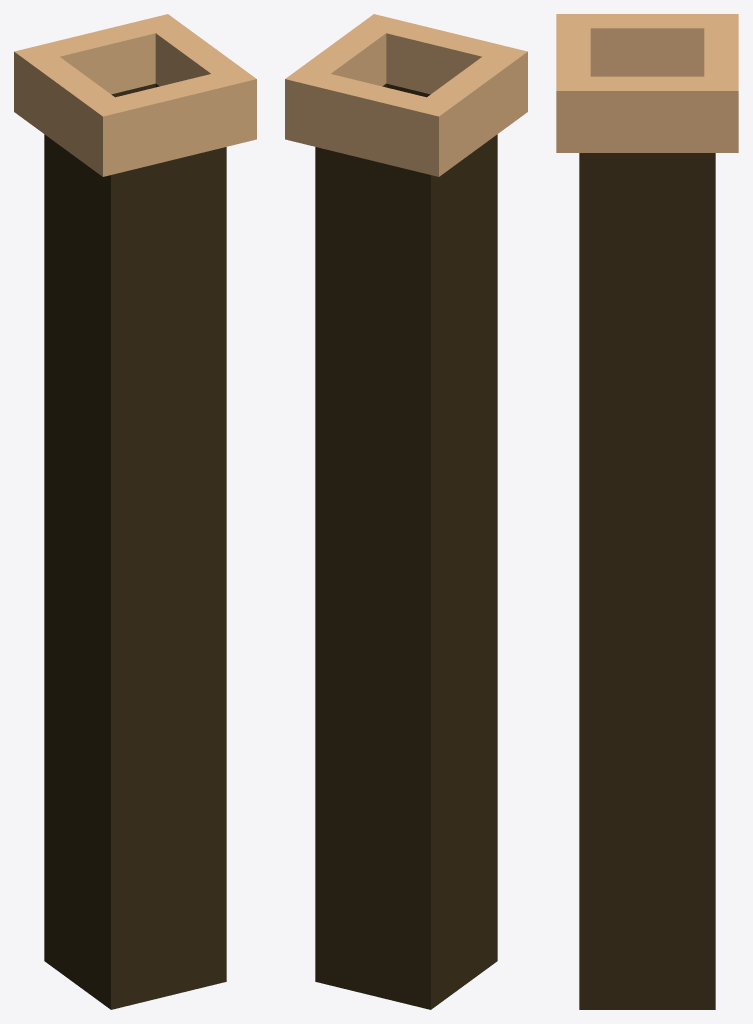
The model's file is Chimney.obj.
3 renders of one model, left to right at view 1: azimuth 30°, elevation 25°; view 2: azimuth 150°, elevation 25°; view 3: azimuth 270°, elevation 25°, orthographic. The views are drawn at different scales.
Bounding box in the file's own units: 1.6 × 9 × 1.6.
Materials: 1 (1 with a texture image).
